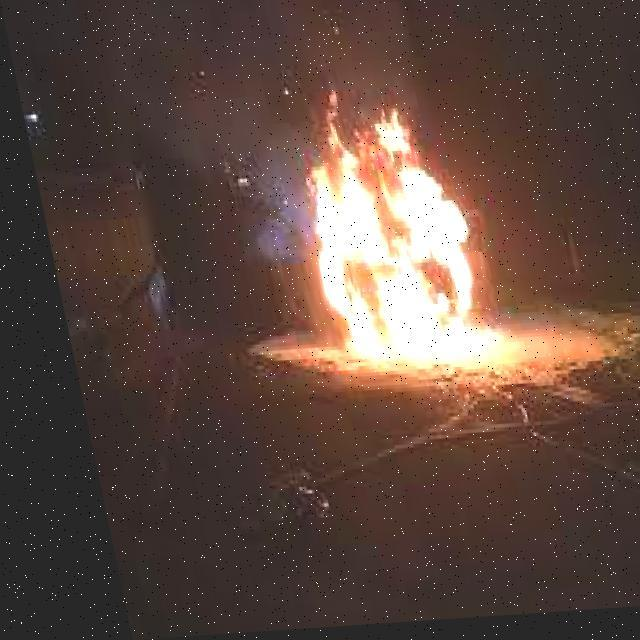Fire: (276, 102, 514, 396)
